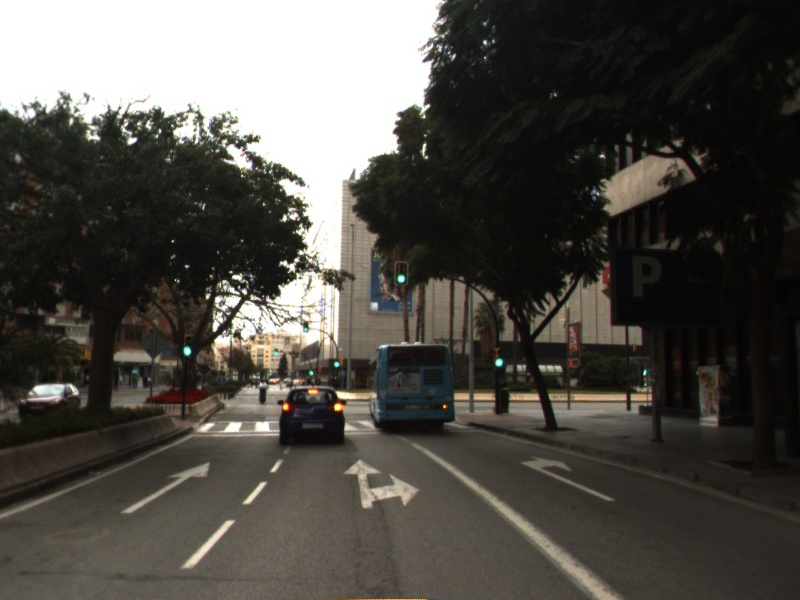RIGHT: (518, 454, 618, 503)
STRAIGHT: (118, 460, 212, 515)
STRAIGHT_RIGHT: (340, 456, 422, 511)
